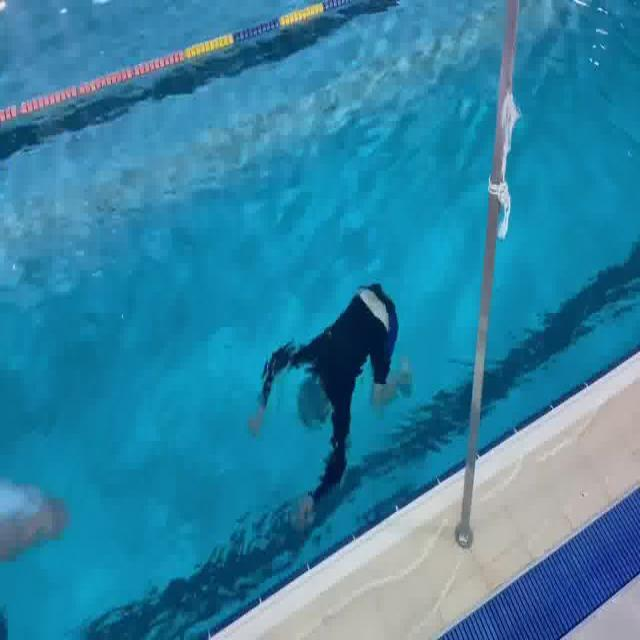drowning: (231, 261, 417, 522)
